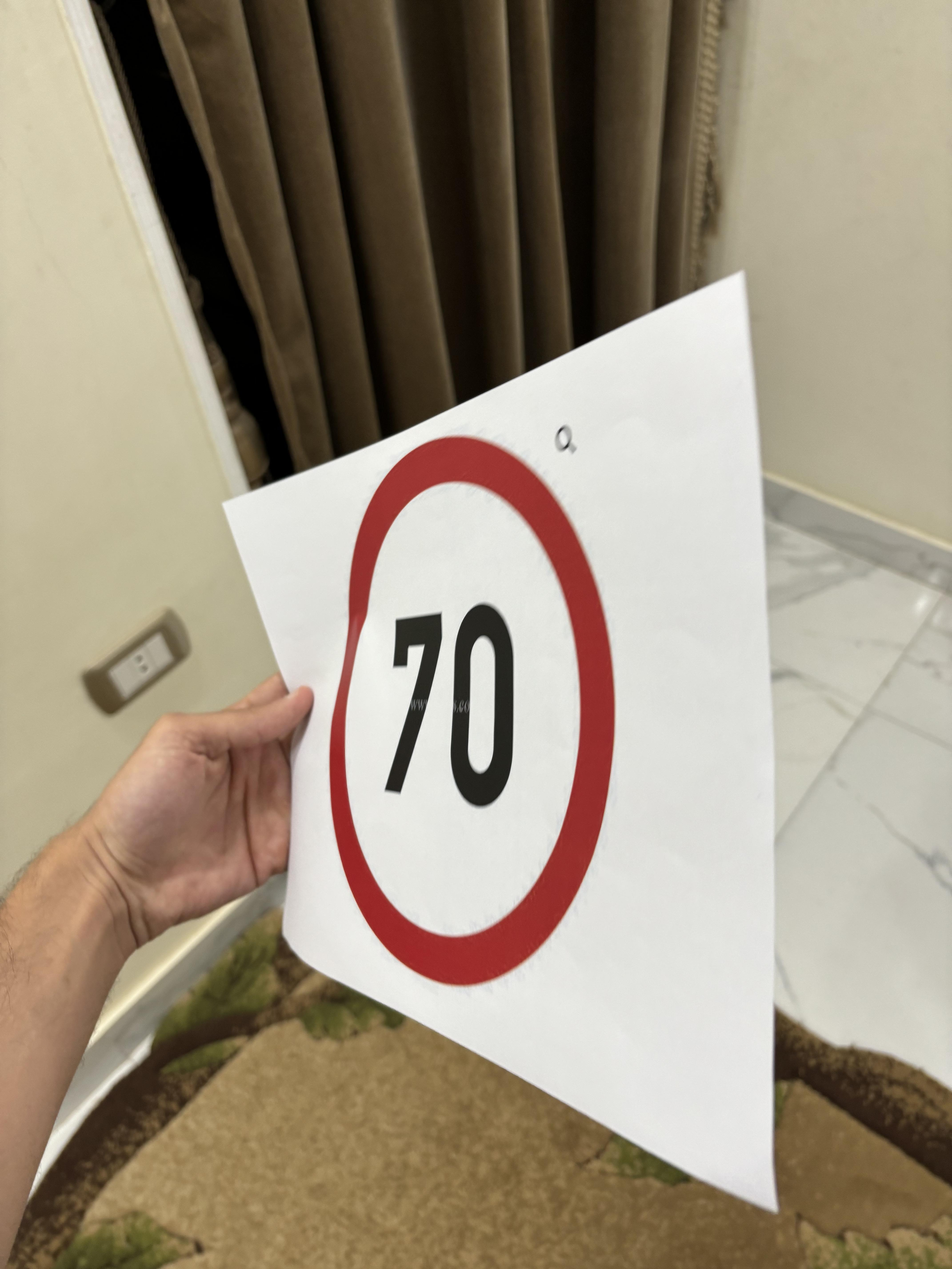70-Speed: (331, 429, 620, 997)
